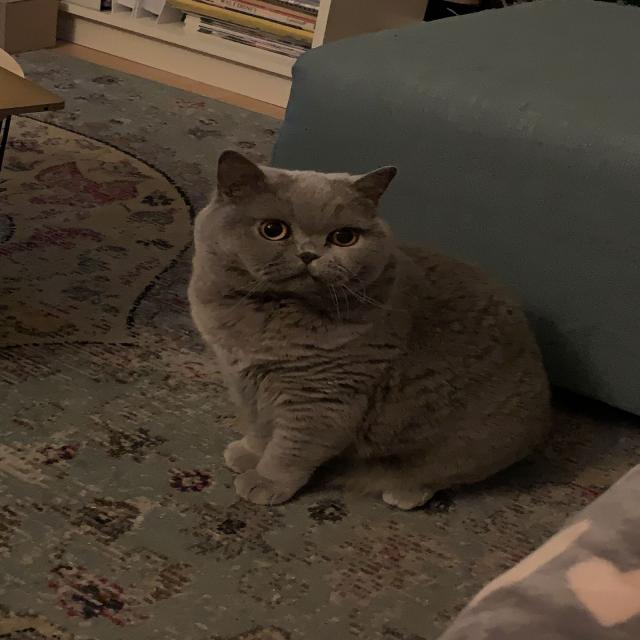british shorthair: (9, 72, 640, 531)
